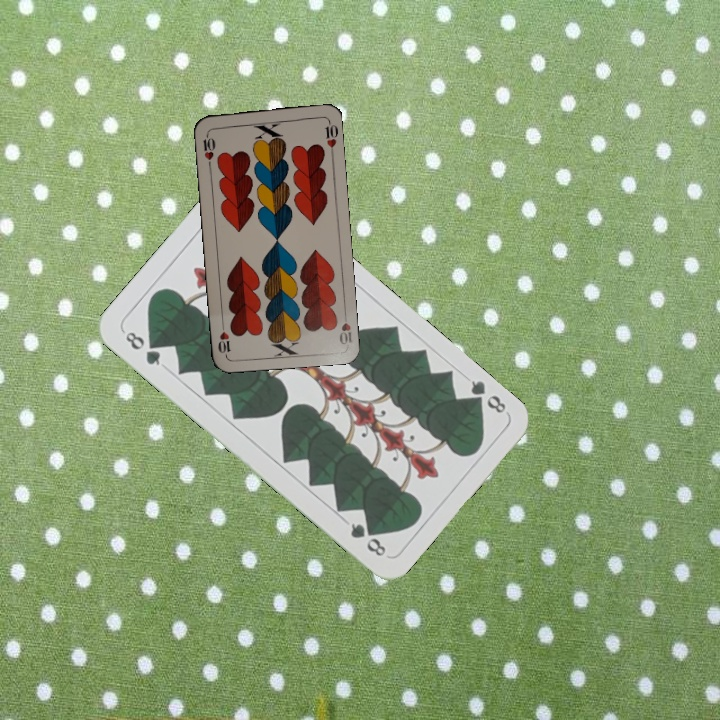G8: (119, 326, 164, 368), (464, 376, 509, 416)
H10: (335, 307, 355, 347), (199, 128, 218, 169)
